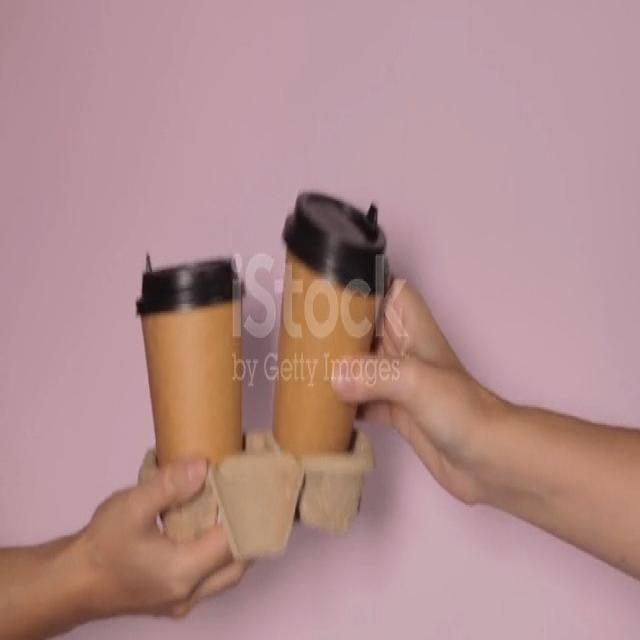cup: (271, 190, 388, 460), (130, 256, 246, 471)
